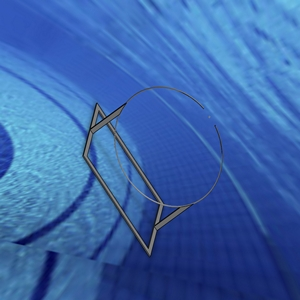circle: (80, 83, 227, 255)
